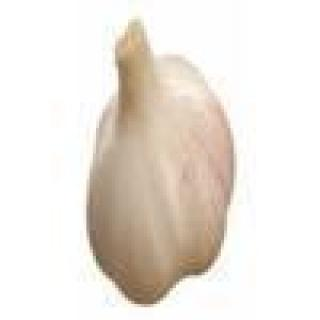Bawang Putih: (75, 17, 238, 305)
